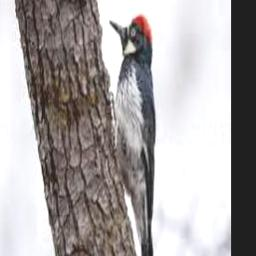Woodpecker: (109, 14, 155, 256)
